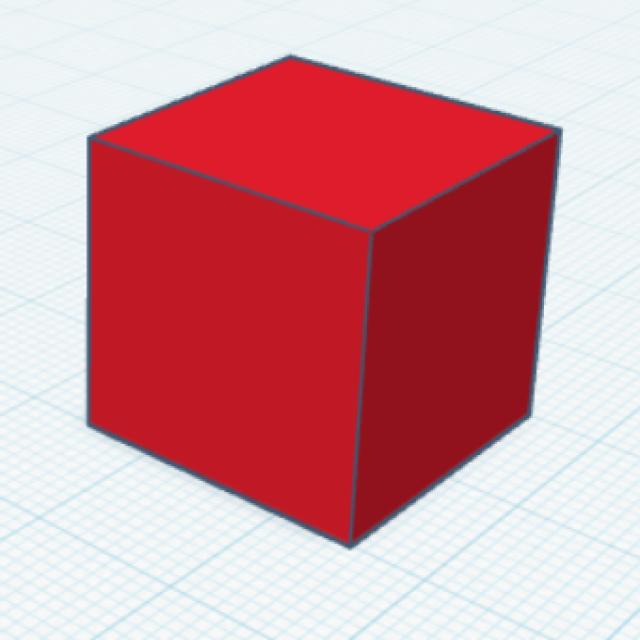cube: (82, 51, 566, 554)
